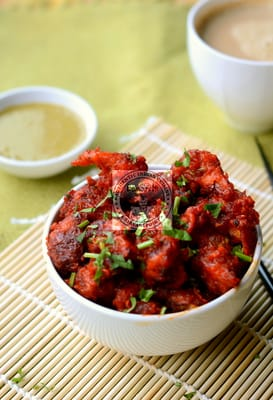pizza: (185, 0, 273, 136)
sushi: (43, 144, 268, 358), (0, 85, 99, 180)
